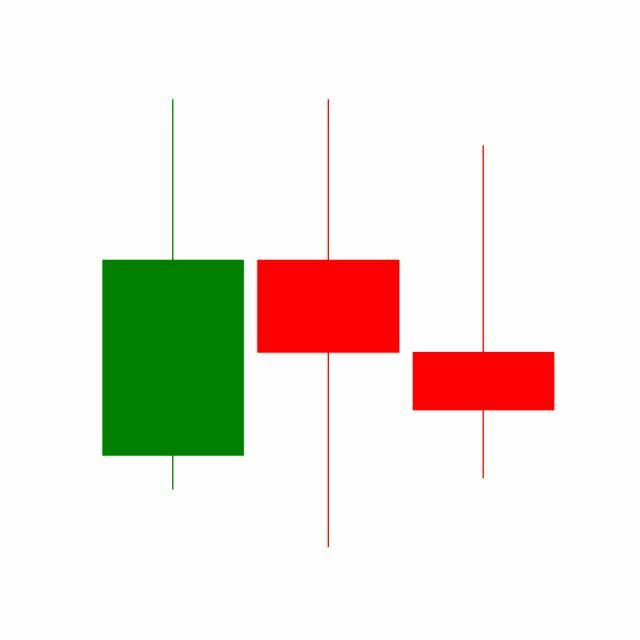Spinning Top: (406, 142, 562, 483)
